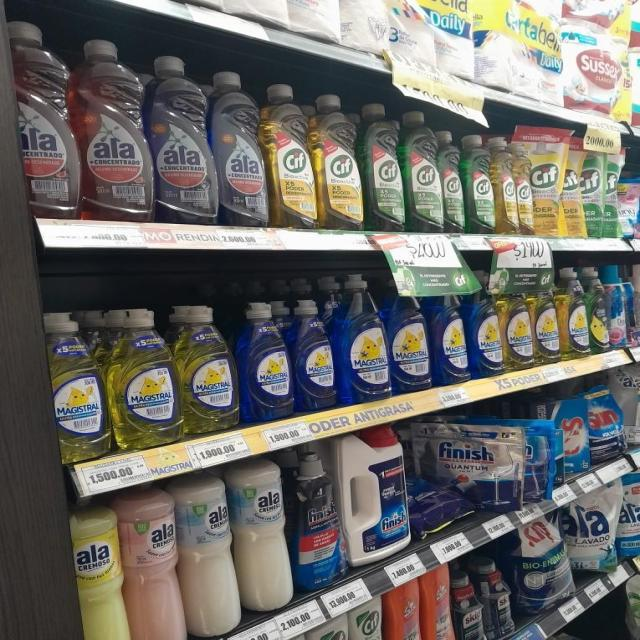ala_conc_azul: (150, 52, 212, 222), (214, 69, 265, 227)
ala_conc_rojo: (77, 38, 149, 222), (10, 23, 76, 222)
ala_crem_blanco: (178, 470, 236, 640), (233, 455, 290, 613)
ala_crem_rosado: (122, 484, 180, 640)
cif_conc_bot_amarilla: (267, 81, 315, 228), (316, 93, 363, 230), (494, 135, 516, 235), (516, 133, 533, 235)
cif_conc_botella_verde: (364, 102, 404, 232), (406, 109, 442, 233), (465, 134, 495, 234), (442, 130, 464, 233)
cif_conc_sachet_amarillo: (533, 129, 560, 237), (561, 136, 582, 238), (582, 139, 603, 237)
cif_conc_sachet_verde: (350, 596, 382, 640)
magistral_con_amarillo: (110, 308, 178, 450), (49, 311, 106, 462), (180, 304, 237, 434), (561, 267, 589, 359), (504, 292, 533, 370), (533, 289, 560, 364)
magistral_con_azul: (242, 300, 292, 422), (294, 296, 336, 412), (389, 276, 431, 392), (432, 292, 468, 386), (470, 291, 503, 377)
